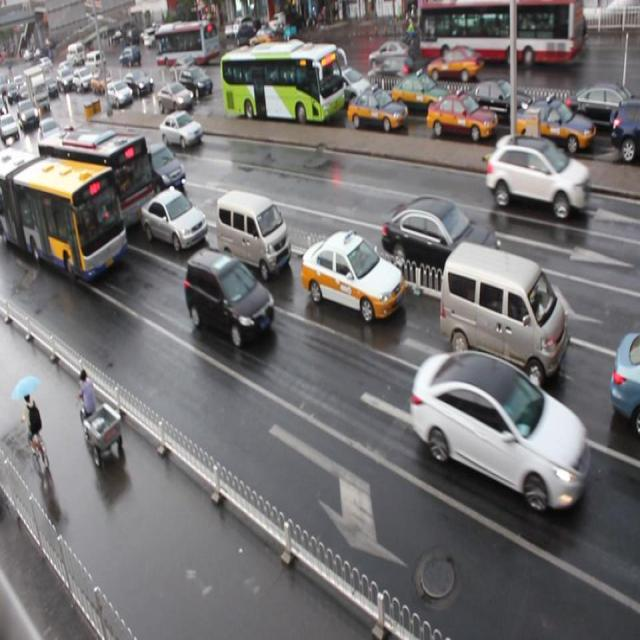car: (412, 345, 587, 514), (382, 198, 504, 290), (300, 229, 403, 321), (185, 249, 276, 348), (485, 137, 590, 222), (514, 101, 594, 160), (139, 188, 207, 252), (560, 84, 640, 134), (426, 91, 497, 145), (467, 79, 539, 127), (608, 330, 640, 433), (345, 88, 407, 134), (389, 70, 451, 116), (325, 63, 374, 105), (610, 100, 640, 161), (22, 160, 61, 204), (160, 113, 203, 149), (152, 82, 189, 114), (176, 66, 208, 99), (123, 70, 155, 97), (105, 80, 132, 107)
truck: (439, 240, 568, 389), (214, 187, 290, 282), (138, 142, 186, 194)
van: (1, 146, 129, 286), (38, 127, 154, 235), (216, 41, 339, 125)
